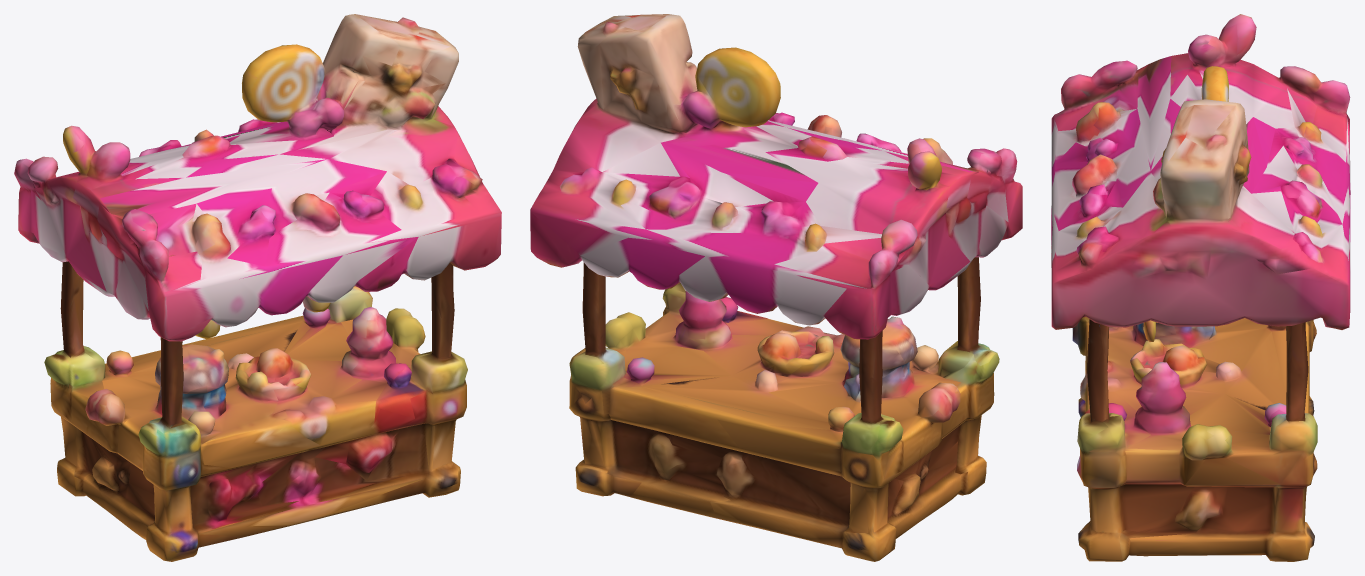
File: CF_Shop.fbx
The picture shows the model from 3 angles, left to right: view 1: azimuth 30°, elevation 25°; view 2: azimuth 150°, elevation 25°; view 3: azimuth 270°, elevation 25°; orthographic projection.
Visible parts, largest first — view 1: CF_Shop; view 2: CF_Shop; view 3: CF_Shop.
Part boxes in pixels (box(x1,y1,x2,y2)): CF_Shop: box(14, 14, 501, 561); CF_Shop: box(530, 14, 1022, 561); CF_Shop: box(1051, 14, 1350, 561).
Bounding box in the file's own units: 9.01 × 10.12 × 6.2.
